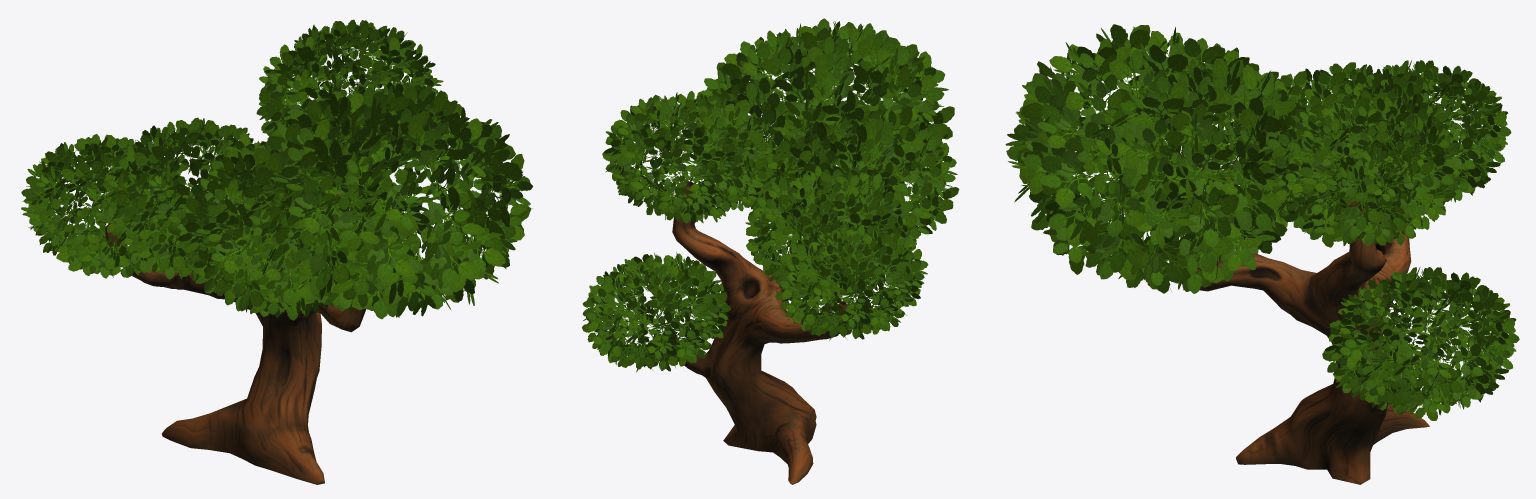
File: TreeTest.fbx
3 views of the same model, side by side, from view 1: azimuth 30°, elevation 25°; view 2: azimuth 150°, elevation 25°; view 3: azimuth 270°, elevation 25° (orthographic). The views are drawn at different scales.
Visible parts, largest first — view 1: TreeTest; view 2: TreeTest; view 3: TreeTest.
Part boxes in pixels (left/top/right/bottom): TreeTest: left=21, top=19, right=532, bottom=484; TreeTest: left=582, top=18, right=959, bottom=484; TreeTest: left=1005, top=24, right=1519, bottom=484.
Size of the model in its own units: 177 by 183 by 199.
